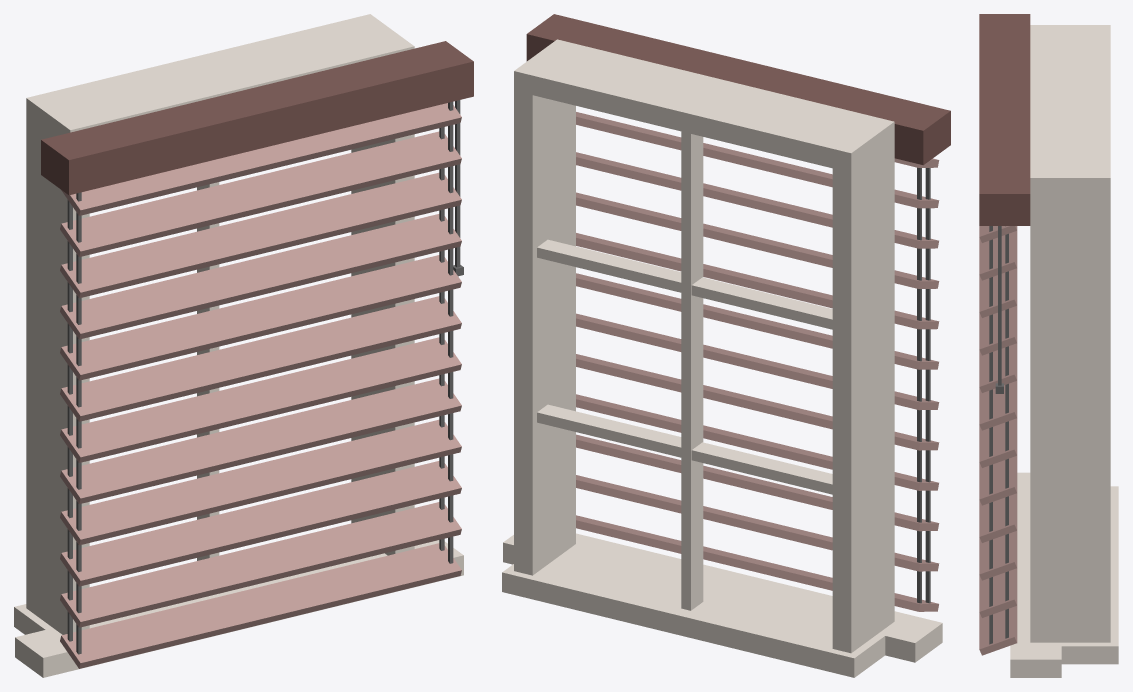
The model's file is newWindow.fbx.
The picture shows the model from 3 angles, left to right: view 1: azimuth 30°, elevation 25°; view 2: azimuth 150°, elevation 25°; view 3: azimuth 270°, elevation 25°; orthographic projection. The views are drawn at different scales.
Visible parts, largest first — view 1: Curtains1_C2, Window1_01; view 2: Window1_01, Curtains1_C2; view 3: Window1_01, Curtains1_C2.
Part boxes in pixels (<box>): Curtains1_C2: <box>41,41,473,668</box>; Window1_01: <box>14,14,463,677</box>; Window1_01: <box>502,39,942,677</box>; Curtains1_C2: <box>526,14,950,611</box>; Window1_01: <box>1010,25,1118,677</box>; Curtains1_C2: <box>979,14,1030,655</box>.
Bounding box in the file's own units: 110 × 133 × 34.69.
